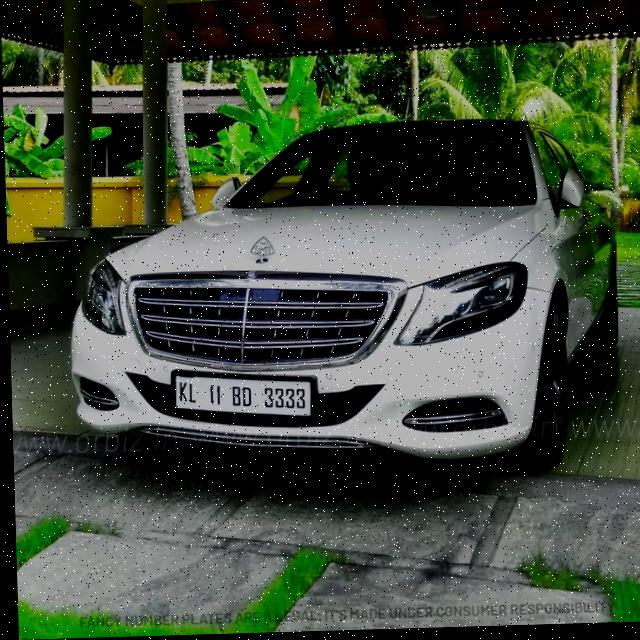plate: (167, 367, 315, 423)
